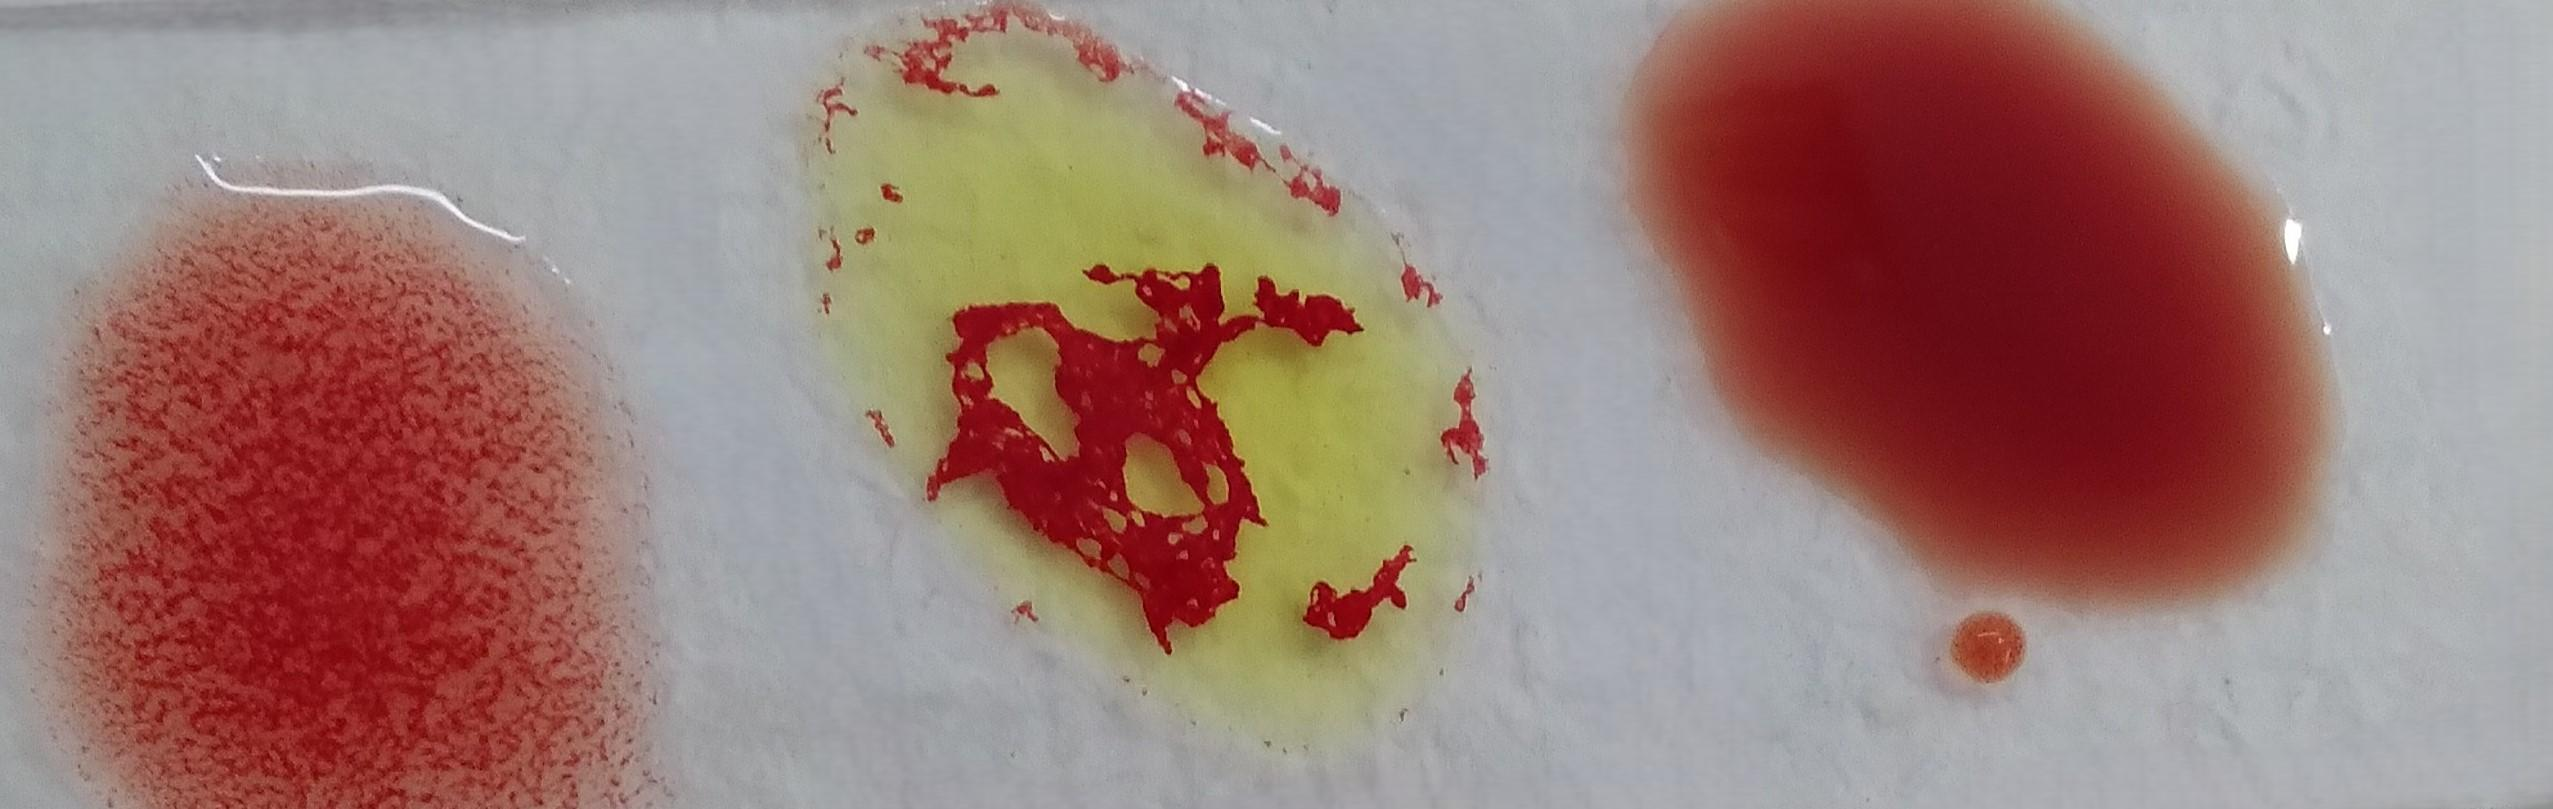B: (806, 3, 1501, 741)
D: (68, 195, 619, 809)
